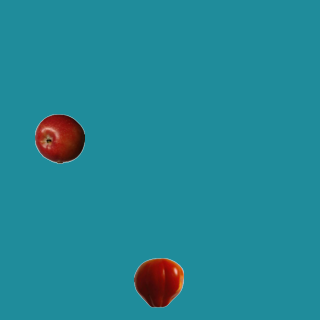Apple Braeburn: (34, 113, 84, 163)
Tomato 1: (133, 257, 183, 307)
